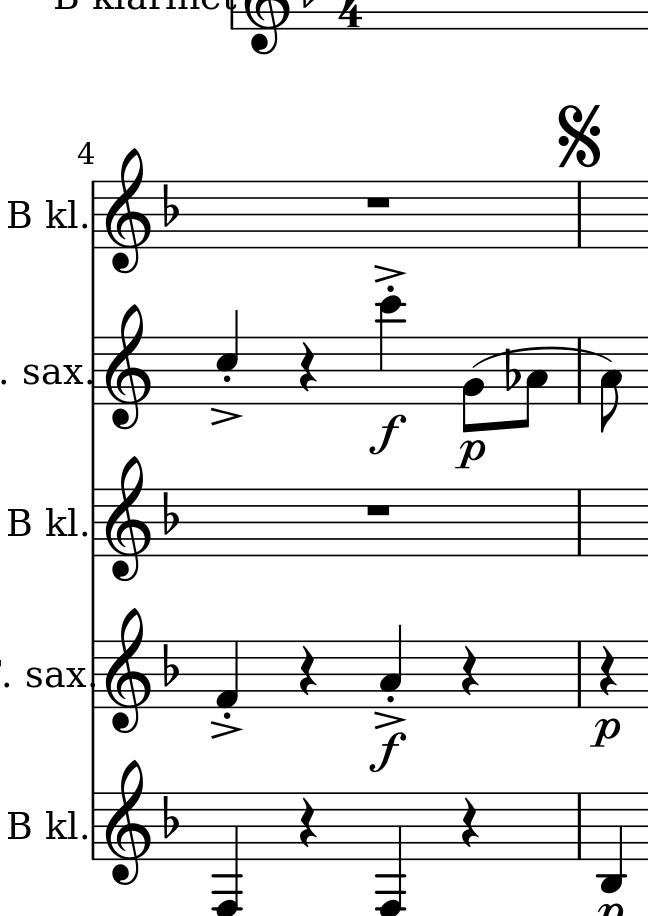4_-1: (215, 640, 243, 711)
4_-3: (596, 790, 627, 895)
4_-6: (210, 791, 247, 916), (375, 788, 408, 916)
4_12: (375, 293, 407, 403)
4_3: (380, 622, 405, 712)
4_5: (214, 307, 240, 406)
8_2: (459, 333, 485, 434)
8_3: (518, 335, 551, 430), (598, 334, 625, 435)
Accent_above: (208, 718, 244, 740), (207, 407, 244, 426), (372, 264, 408, 283), (372, 711, 409, 729)
Flat: (158, 793, 181, 840), (160, 640, 181, 689), (161, 183, 183, 229), (502, 344, 520, 395), (162, 491, 182, 535)
Gclef: (103, 457, 156, 584), (104, 303, 155, 431), (105, 608, 154, 737), (104, 147, 151, 276), (104, 757, 151, 885)
Kl: (44, 808, 80, 844), (45, 503, 77, 541), (45, 197, 79, 231)
Rests1: (361, 192, 396, 211), (362, 502, 394, 519)
Rests4: (296, 794, 319, 852), (297, 339, 319, 394), (458, 644, 481, 695), (596, 644, 618, 696), (458, 796, 478, 851), (299, 643, 317, 700)
Sax: (22, 654, 89, 699), (16, 358, 82, 393)
Segno: (557, 100, 603, 171)
Single_barline: (86, 487, 104, 556), (86, 336, 103, 407), (86, 791, 103, 861), (571, 488, 588, 557), (570, 794, 588, 859), (87, 640, 103, 710), (571, 182, 588, 247), (87, 178, 103, 246), (572, 337, 588, 404), (572, 641, 588, 708)
Slur: (472, 345, 615, 365)
f: (367, 413, 409, 457), (367, 729, 408, 774)
p: (587, 717, 624, 750), (457, 437, 487, 470)
